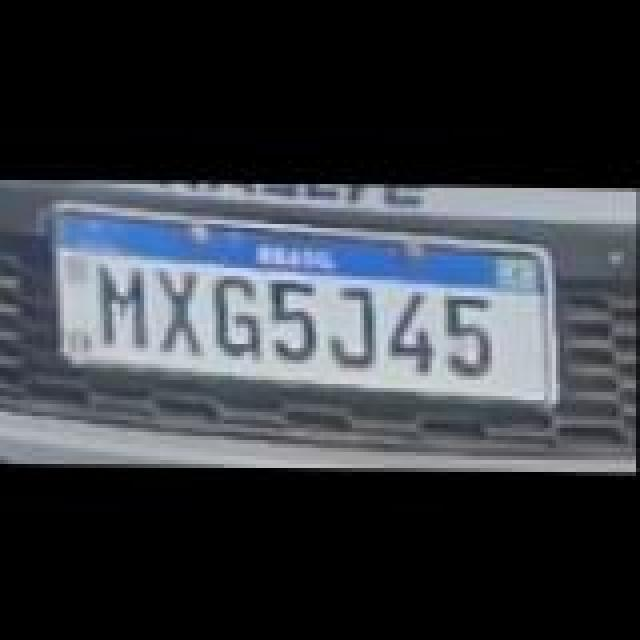4: (382, 282, 438, 366)
5: (438, 292, 502, 376), (264, 274, 324, 358)
G: (206, 272, 270, 356)
J: (324, 282, 384, 366)
M: (94, 258, 158, 346)
X: (154, 262, 210, 350)
